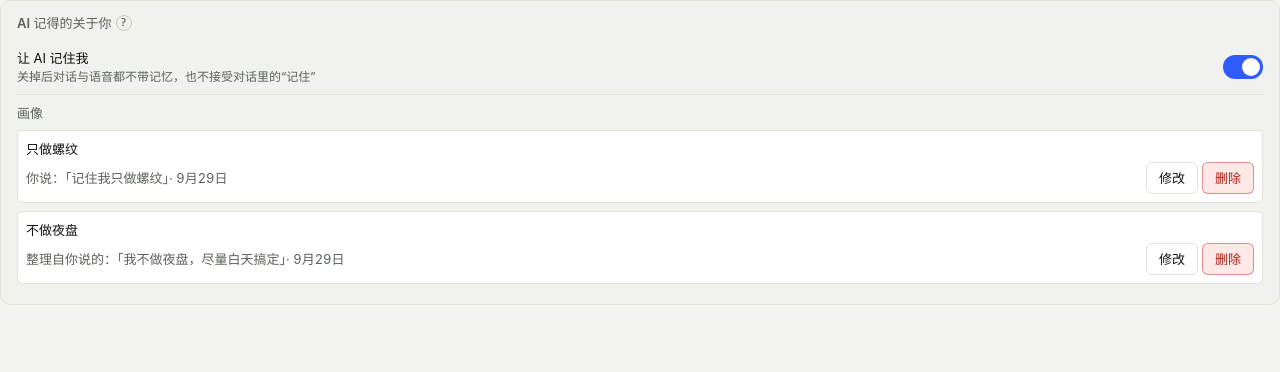
a failed refresh after a write keeps the list it had
Expected: the text "只做螺纹" is shown, top-left (26, 141), bottom-right (78, 157)
Click the button "删除" in the row of "整理自你说的：「我不做夜盘，尽量白天搞定」· 9月29日" at (1228, 259), box top-left (1202, 243), bottom-right (1254, 275)
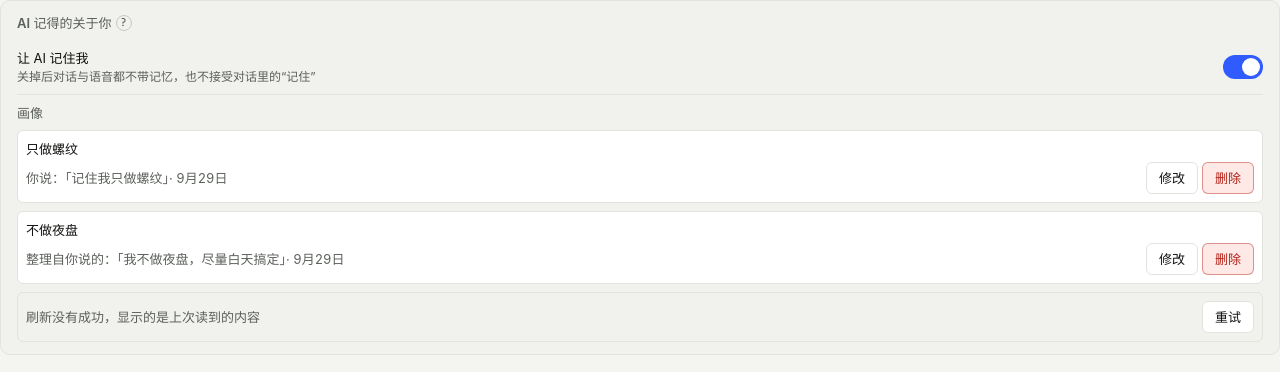
Expected: the text "只做螺纹" is shown, top-left (26, 141), bottom-right (78, 157)
Expected: the message shows "刷新没有成功，显示的是上次读到的内容", top-left (26, 309), bottom-right (260, 325)
